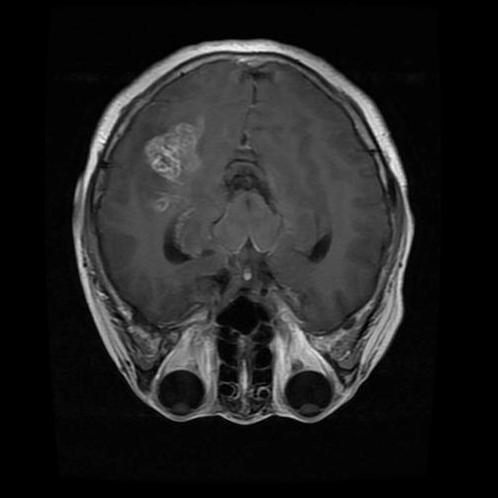Tumour-Glioma: (141, 116, 211, 186)
